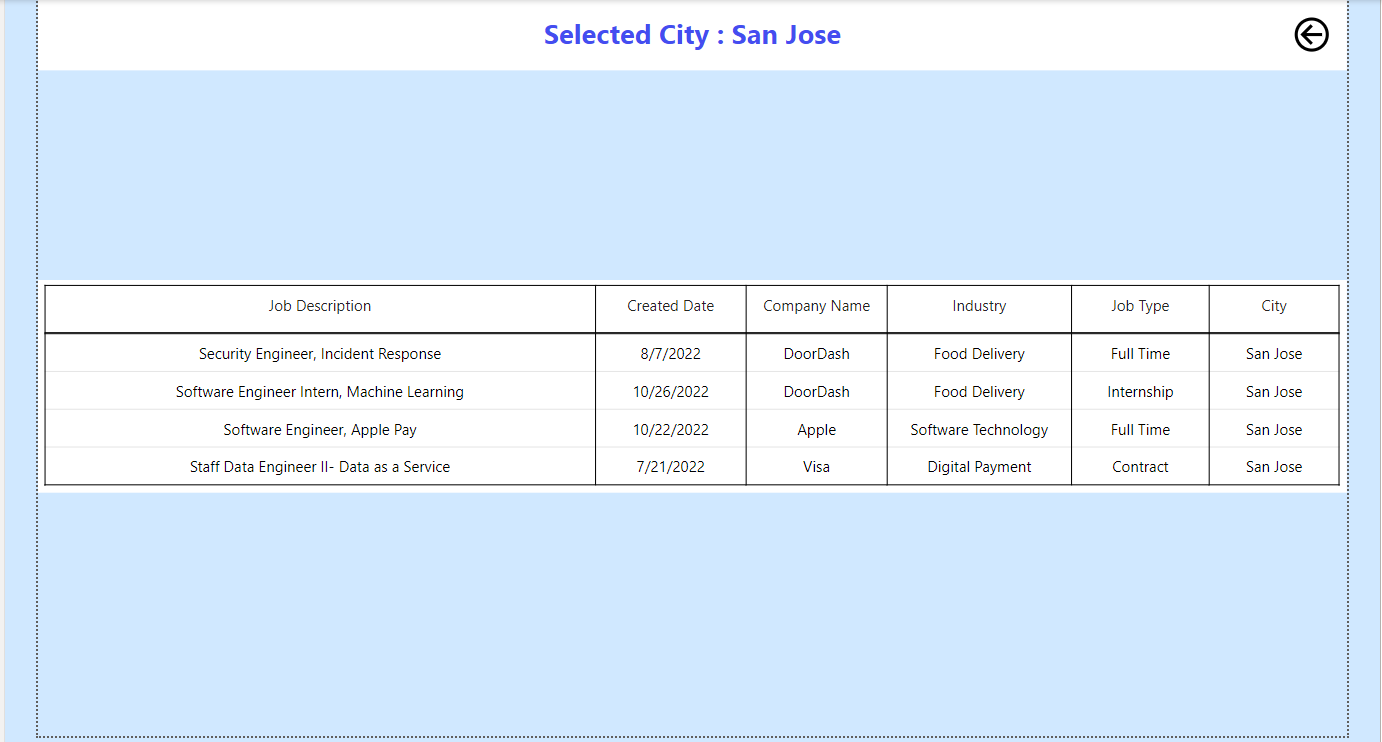

What the dashboard file says about the page in this screenshot:
{"tool":"powerbi","page":{"name":"Drill Through Page","canvas":[1280,720],"ordinal":2},"visuals":[{"type":"tableEx","fields":{"Values":["JOB POST.Job_Description","JOB POST.Job_Created_Date","JOB COMPANY.Company_Name","COMPANY INDUSTRY.Industry","JOB TYPE.Type","JOB LOCATION.City"]},"box":[0,273.8,1279.9,207.8],"z":0},{"type":"card","fields":{"Values":["JOB LOCATION.Measure"]},"box":[0,0,1279.9,68.5],"z":2000},{"type":"actionButton","box":[1223.6,11,44,45.2],"z":3000}]}

Visuals, with their boxes on the page's 1280x720 design canvas (x1, y1, x2, y2). These are canvas units, not pixel positions in the 1382x742 screenshot, which may show the page scaled, cropped or inside an application window:
tableEx - JOB POST.Job_Description x JOB POST.Job_Created_Date: [left=0, top=274, right=1280, bottom=482]
card - JOB LOCATION.Measure: [left=0, top=0, right=1280, bottom=68]
actionButton: [left=1224, top=11, right=1268, bottom=56]
